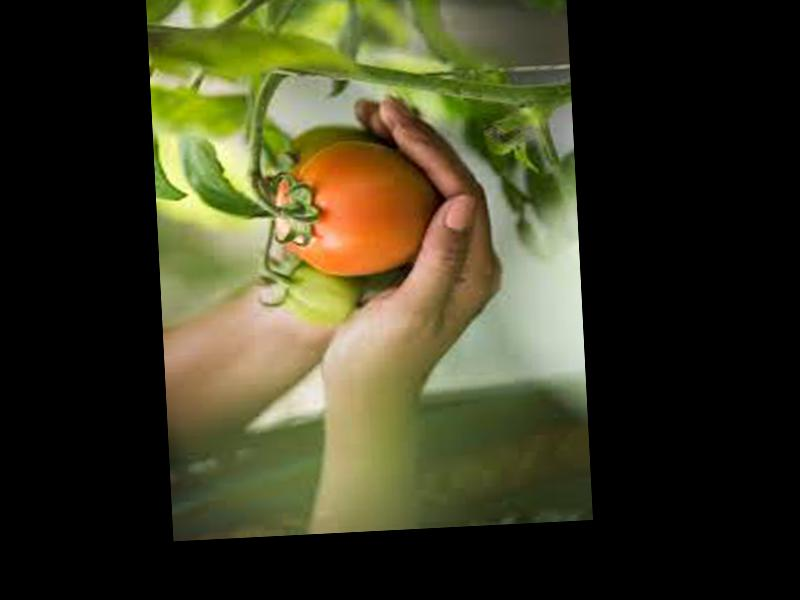Tomato: (273, 139, 433, 279)
